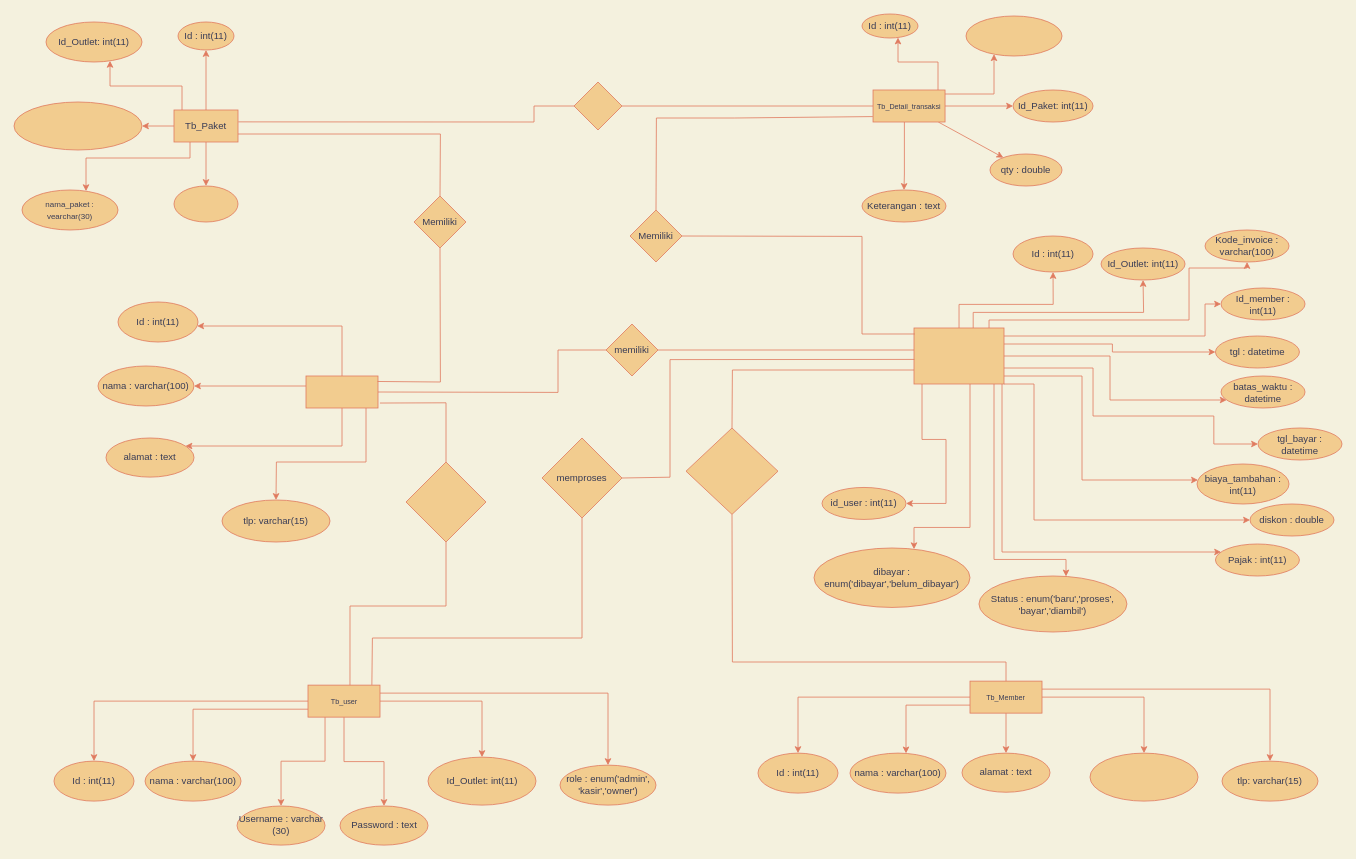
Image size: 1356x859. Some labels were removed from this diagram. The centre of each missing label's shape, as x and y in pixels:
"Harga: int(11)" belongs at point (205, 203).
"Id_Transaks: int(11)" belongs at point (1013, 35).
"Jenis: enum('kiloan','selimut', 'bed_cover','kain',lain')" belongs at point (77, 125).
"Jenis_kelamin : enum('L','P')" belongs at point (1143, 776).
"melakukan" belongs at point (731, 470).
"Melihat" belongs at point (597, 105).
"memilki" belongs at point (445, 501).
"Tb_outlet" belongs at point (341, 391).
"Tb_Transaksi" belongs at point (958, 355).
